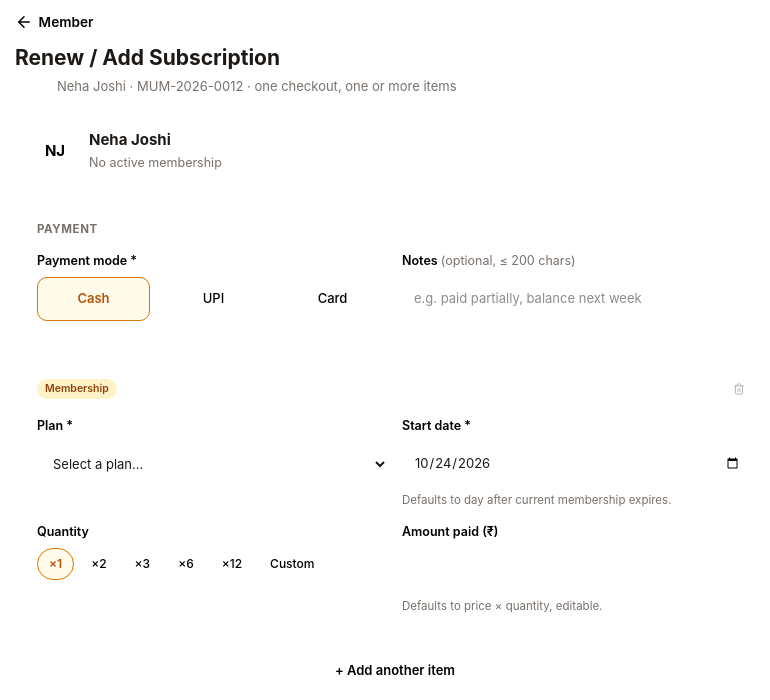
Scenario: RenewSubscriptionPage — an item › Custom quantity takes a number clamped to 1–60, and "back to presets" returns
Select "Monthly · 30 days · ₹1,500" in the dropdown labelled "Plan *" at (212, 464), box [37,442,388,486]
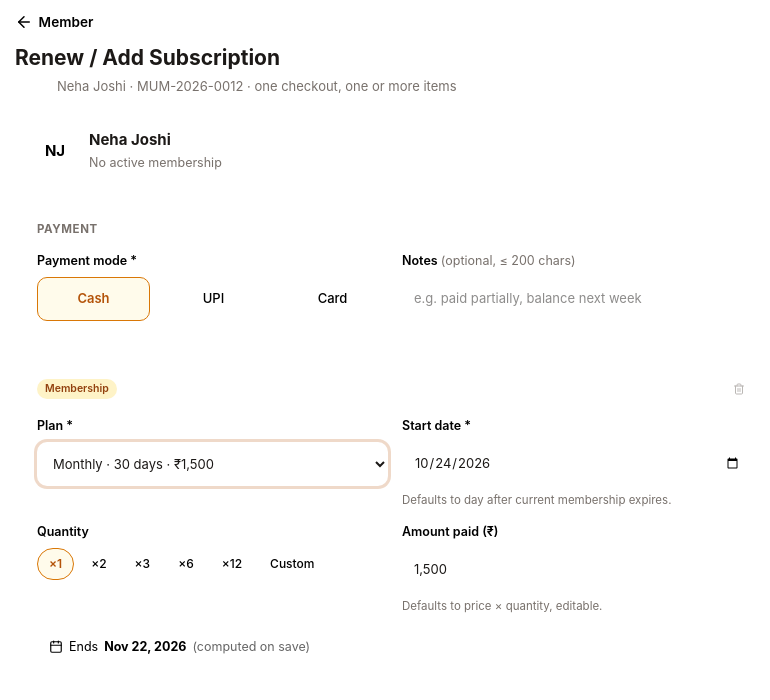
Click the button "Custom" at (292, 564), box [259,548,326,580]
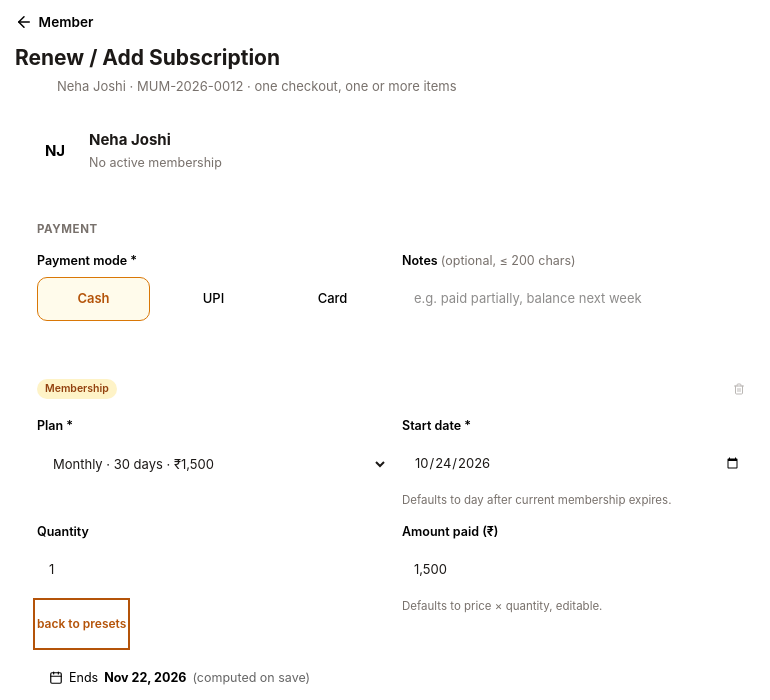
Replace the text in the number field with "500" at (212, 570), box [37,548,388,592]
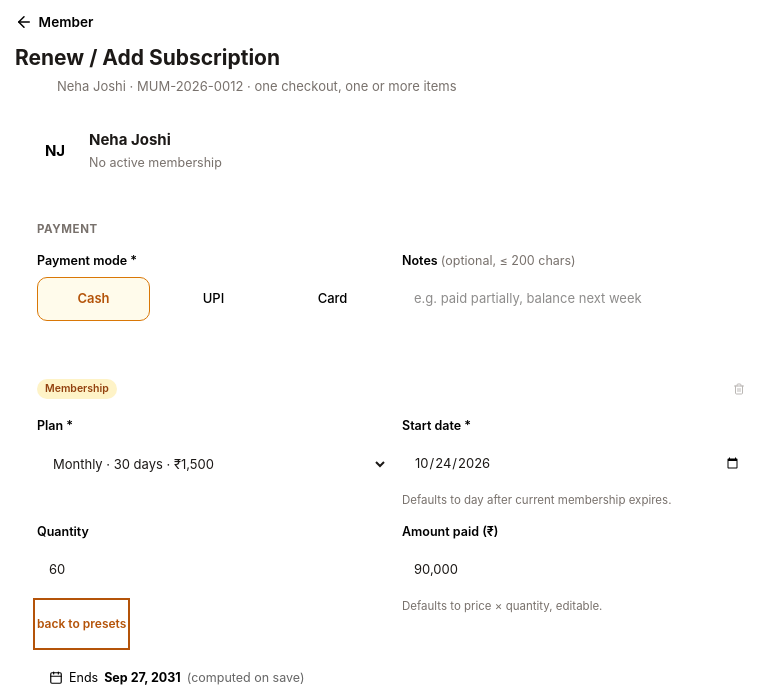
Expected: the number field holds "60", [37,548,388,592]
Expected: the field labelled "Amount paid (₹)" holds "90,000", [402,548,753,592]
Click the button "back to presets" at (82, 624), box [37,602,126,646]
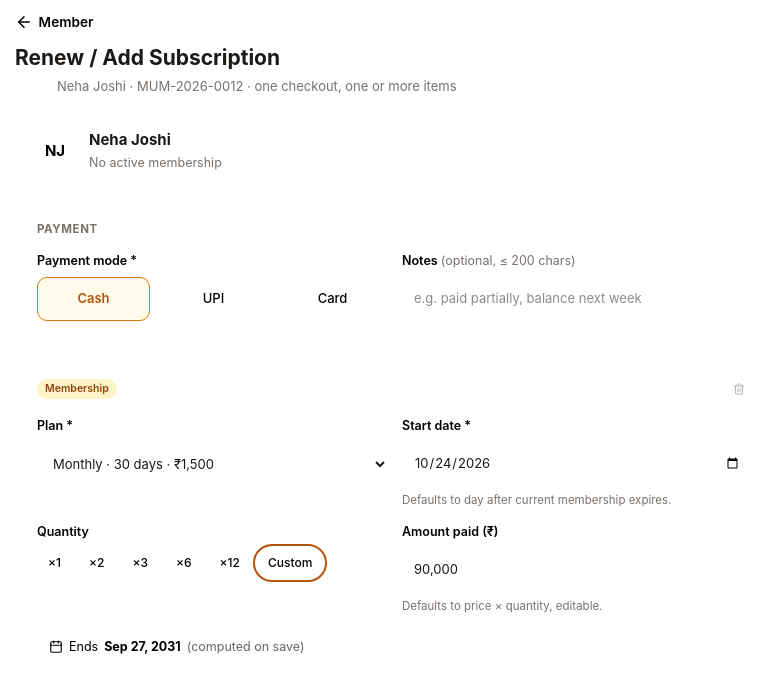
Expected: the button "×12" is shown, [208,548,251,578]
